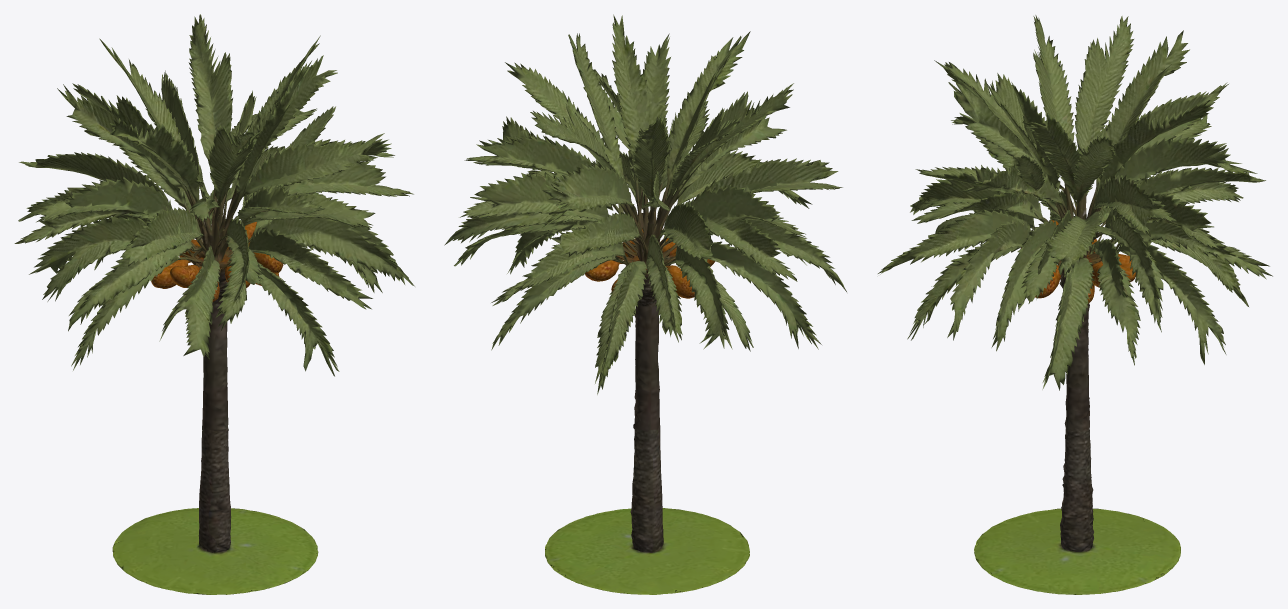
File: date_palm_game.glb
The picture shows the model from 3 angles, left to right: view 1: azimuth 30°, elevation 25°; view 2: azimuth 150°, elevation 25°; view 3: azimuth 270°, elevation 25°; orthographic projection.
Parts seen in each view (by area): view 1: tripo_node_82806ccb-8774-44de-b149-1bd4b7727c7e; view 2: tripo_node_82806ccb-8774-44de-b149-1bd4b7727c7e; view 3: tripo_node_82806ccb-8774-44de-b149-1bd4b7727c7e.
Part boxes in pixels (x1,y1,x2,y2): tripo_node_82806ccb-8774-44de-b149-1bd4b7727c7e: [14, 14, 414, 594]; tripo_node_82806ccb-8774-44de-b149-1bd4b7727c7e: [444, 14, 846, 594]; tripo_node_82806ccb-8774-44de-b149-1bd4b7727c7e: [878, 15, 1272, 594].
Bounding box in the file's own units: 0.7188 × 0.9781 × 0.7067.
Materials: 1 (1 with a texture image).
